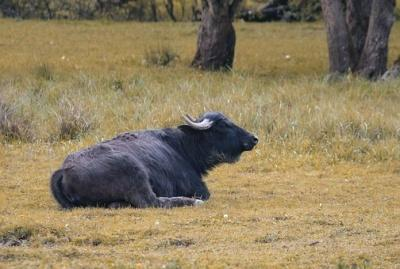buffalo: (50, 112, 259, 210)
